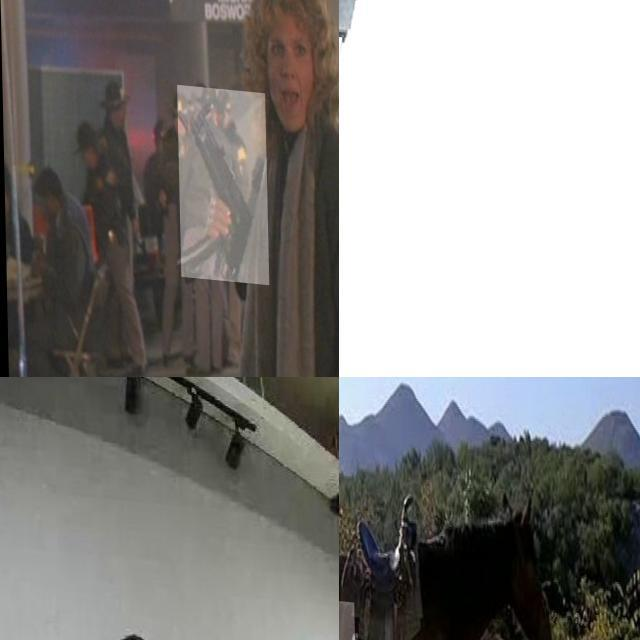gun-knife-thesis - v11 Yolov5 augmented: (339, 0, 640, 377), (176, 81, 267, 280)
